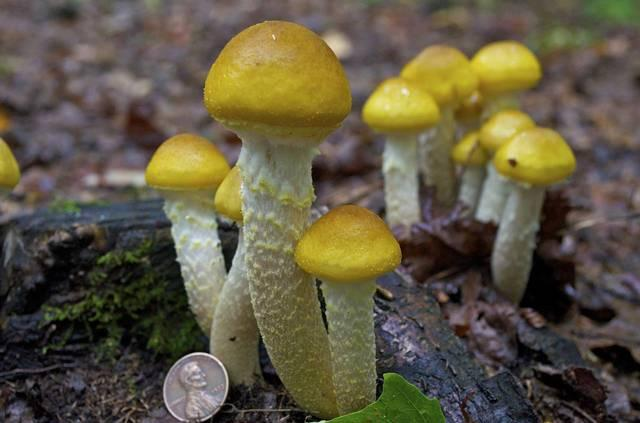Edible Mushroom: (202, 18, 353, 416), (293, 203, 402, 417), (144, 131, 230, 335), (488, 126, 576, 305), (361, 76, 440, 240)
